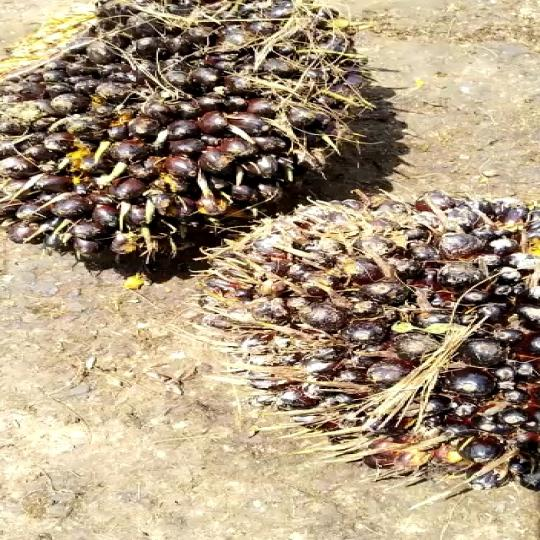mentah: (211, 195, 540, 505), (9, 0, 357, 263)
